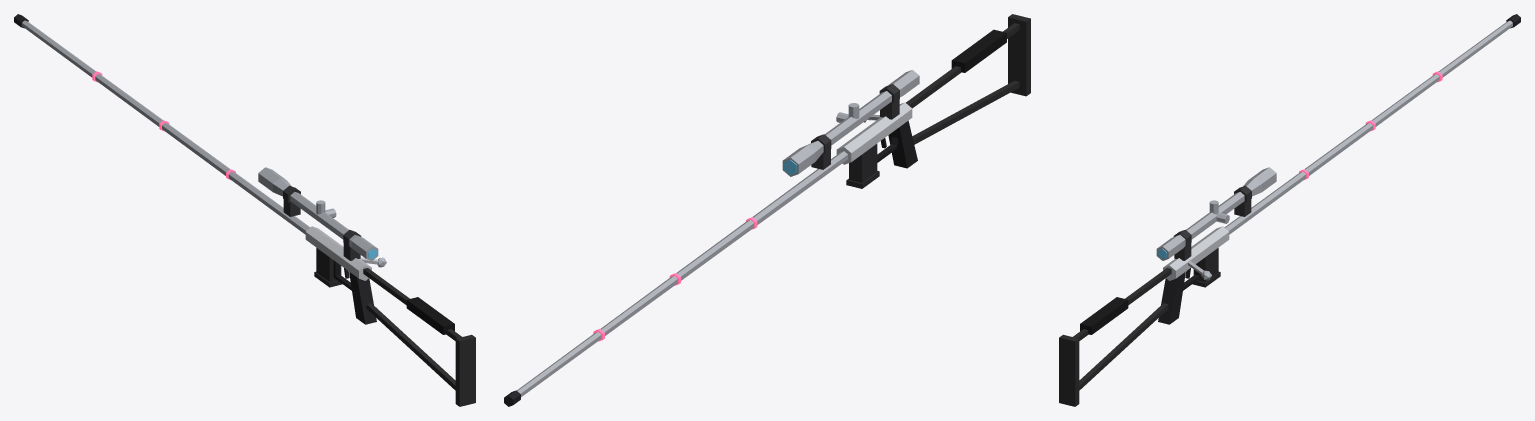
Rendered from Needle.glb.
3 renders of one model, left to right at view 1: azimuth 30°, elevation 25°; view 2: azimuth 150°, elevation 25°; view 3: azimuth 330°, elevation 25°, orthographic. The views are drawn at different scales.
Visible parts, largest first — view 1: Stock, Barrel, Scope, Body, Grip, Pad, Mount, Magazine; view 2: Barrel, Stock, Scope, Body, Pad, Magazine, Mount, Grip; view 3: Stock, Barrel, Scope, Body, Grip, Pad, Mount, Magazine.
Part boxes in pixels (bbox=[...]): Stock: bbox=[363, 268, 475, 406]; Barrel: bbox=[22, 20, 310, 234]; Scope: bbox=[258, 167, 378, 260]; Body: bbox=[305, 226, 371, 280]; Grip: bbox=[349, 271, 376, 324]; Pad: bbox=[406, 297, 454, 334]; Mount: bbox=[283, 185, 361, 260]; Magazine: bbox=[314, 248, 342, 287]; Barrel: bbox=[516, 151, 847, 396]; Stock: bbox=[906, 14, 1030, 144]; Scope: bbox=[782, 70, 919, 176]; Body: bbox=[836, 102, 912, 164]; Pad: bbox=[951, 29, 1006, 72]; Magazine: bbox=[846, 144, 879, 188]; Mount: bbox=[811, 84, 899, 169]; Grip: bbox=[888, 120, 917, 168]; Stock: bbox=[1059, 268, 1171, 406]; Barrel: bbox=[1224, 20, 1512, 234]; Scope: bbox=[1156, 167, 1276, 260]; Body: bbox=[1163, 226, 1229, 280]; Grip: bbox=[1158, 271, 1185, 324]; Pad: bbox=[1080, 297, 1128, 334]; Mount: bbox=[1173, 185, 1251, 260]; Magazine: bbox=[1192, 248, 1220, 287].
Bounding box in the file's own units: 0.3357 × 0.785 × 6.73.
